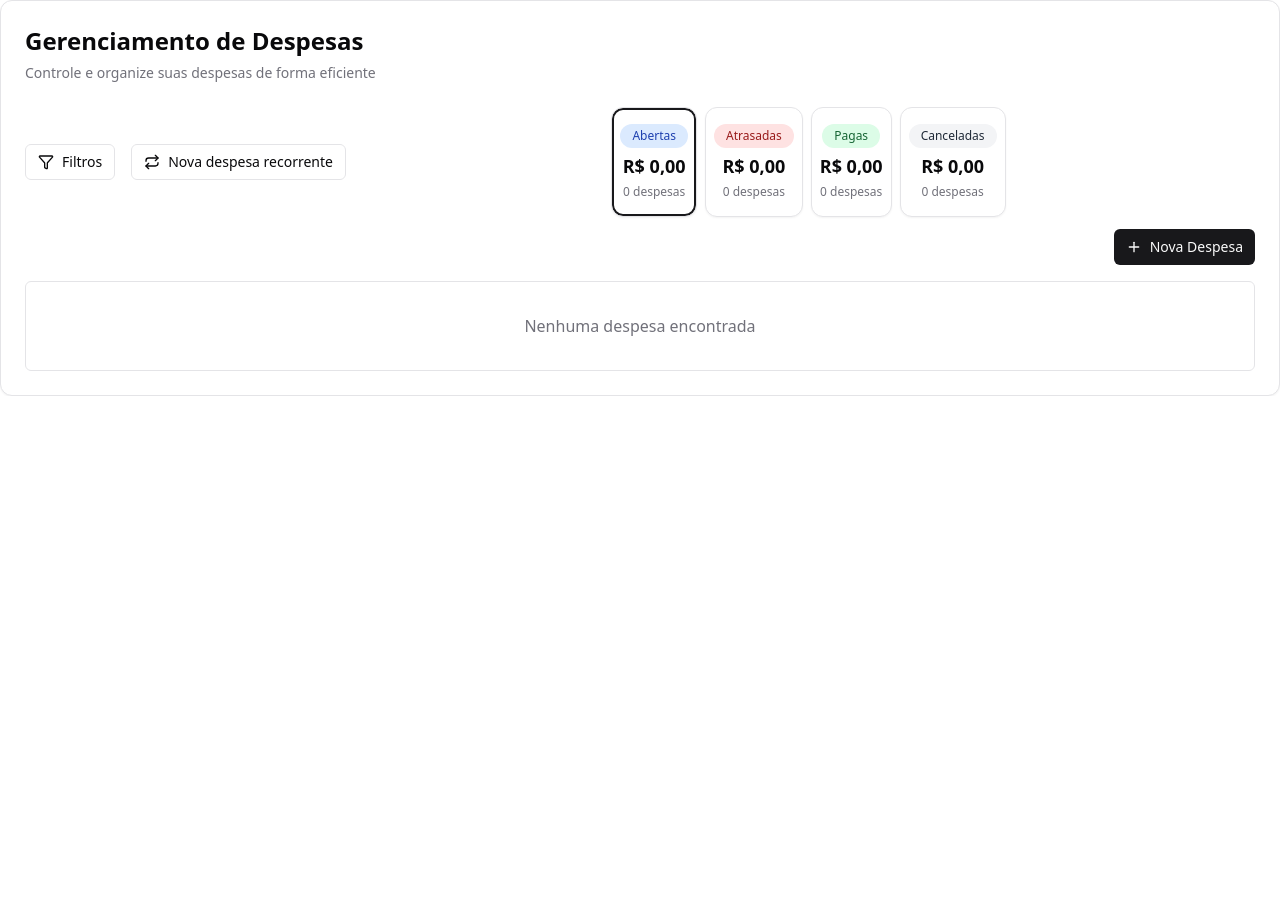
it: ExpensesPage Integration › full filter change flow › should handle clear filters flow
Click the button with test id "filter-button". click: (70, 162)
box: [25,144,115,180]
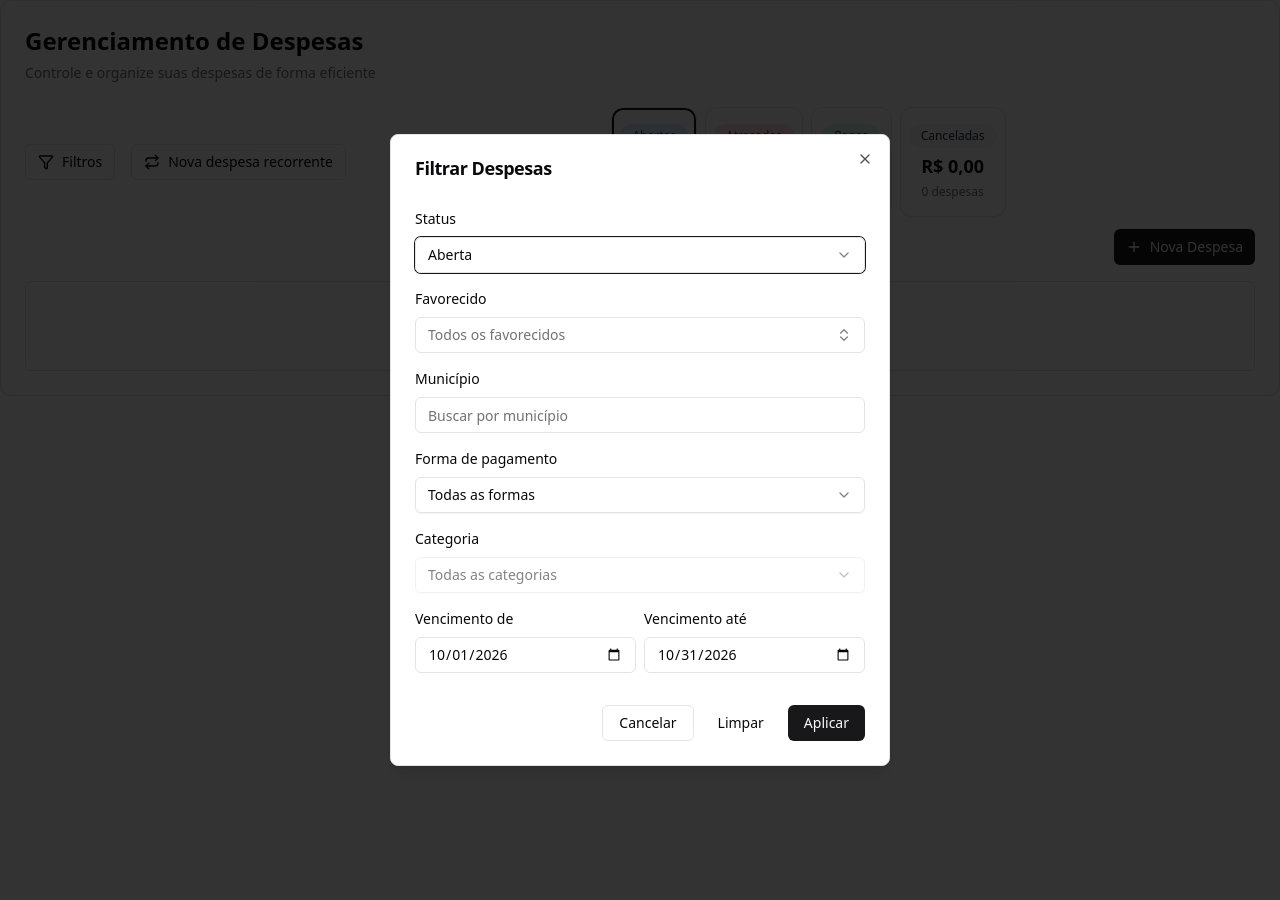
Click the button "Limpar". click: (741, 723)
box: [702,705,780,741]
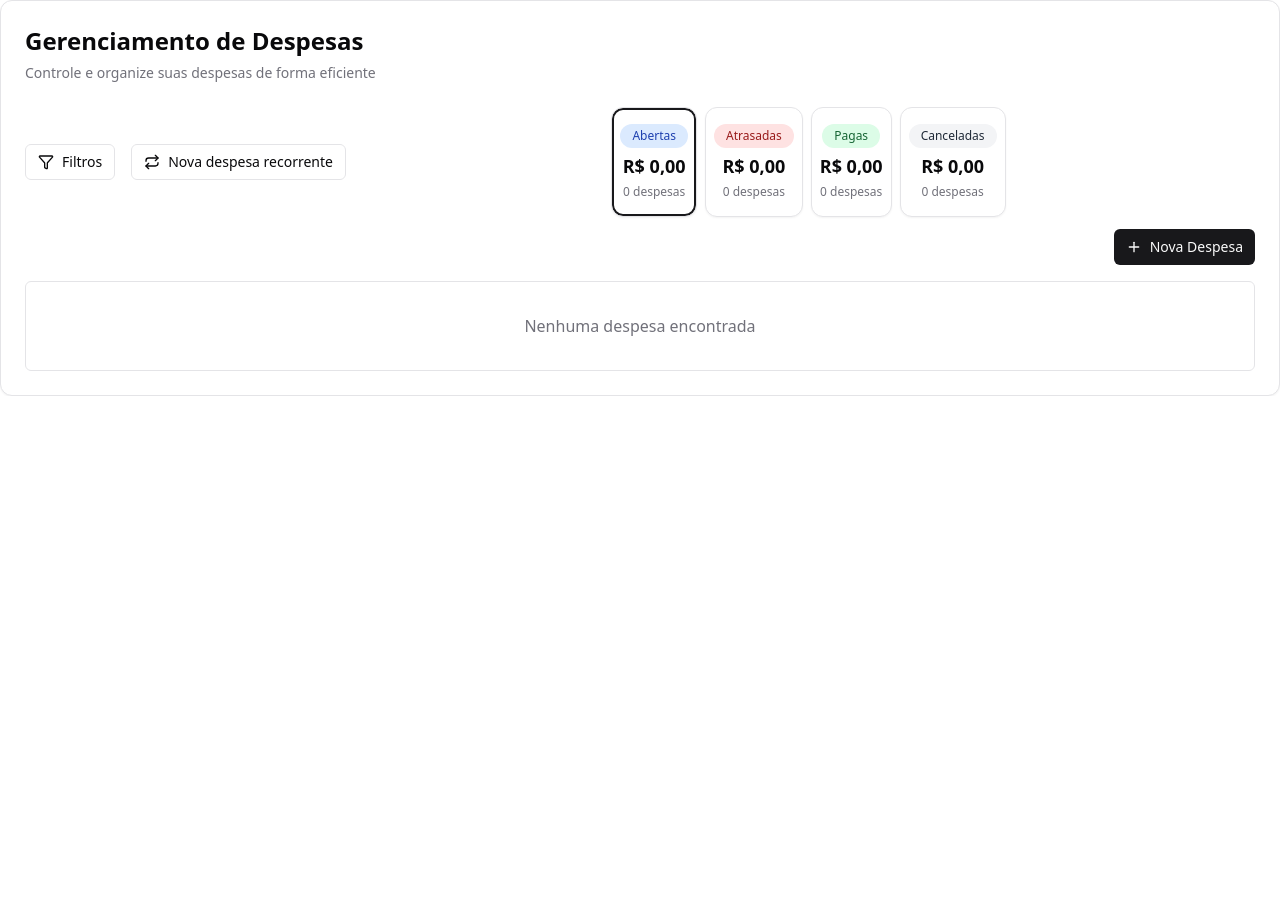
Expected: the heading "Filtrar Despesas" is gone
